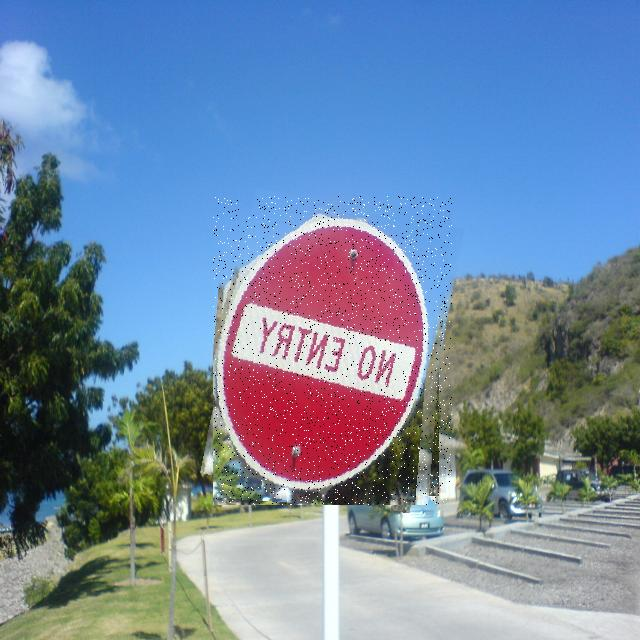no entry: (213, 196, 452, 505)
